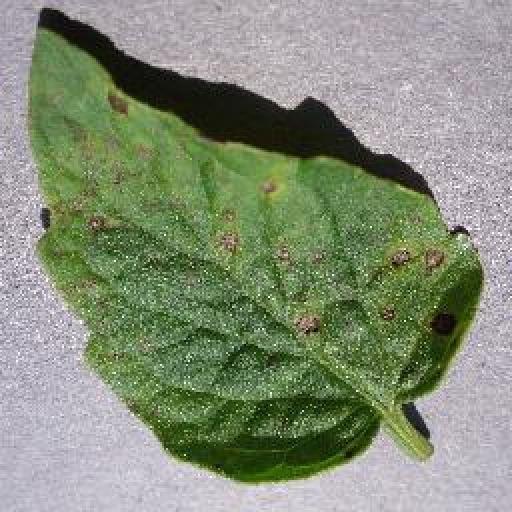Septoria: (27, 24, 483, 484)
